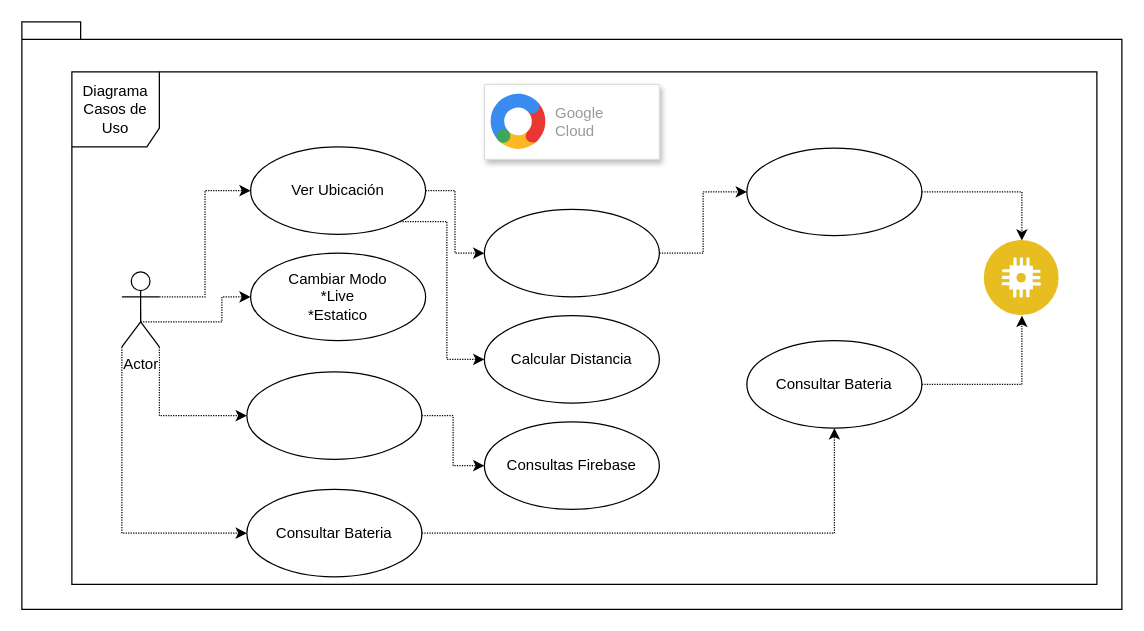
The diagram is 1144 pixels wide and 631 high, and some of its shapes have lost their labels. The centre of each missing label's shape, as x and y in pixels:
"Calcular Cambio de Posición" goes at (x=571, y=252).
"IoT" goes at (x=1021, y=277).
"Leer Posición" goes at (x=834, y=191).
"Ver Dispositivos" goes at (x=334, y=415).
